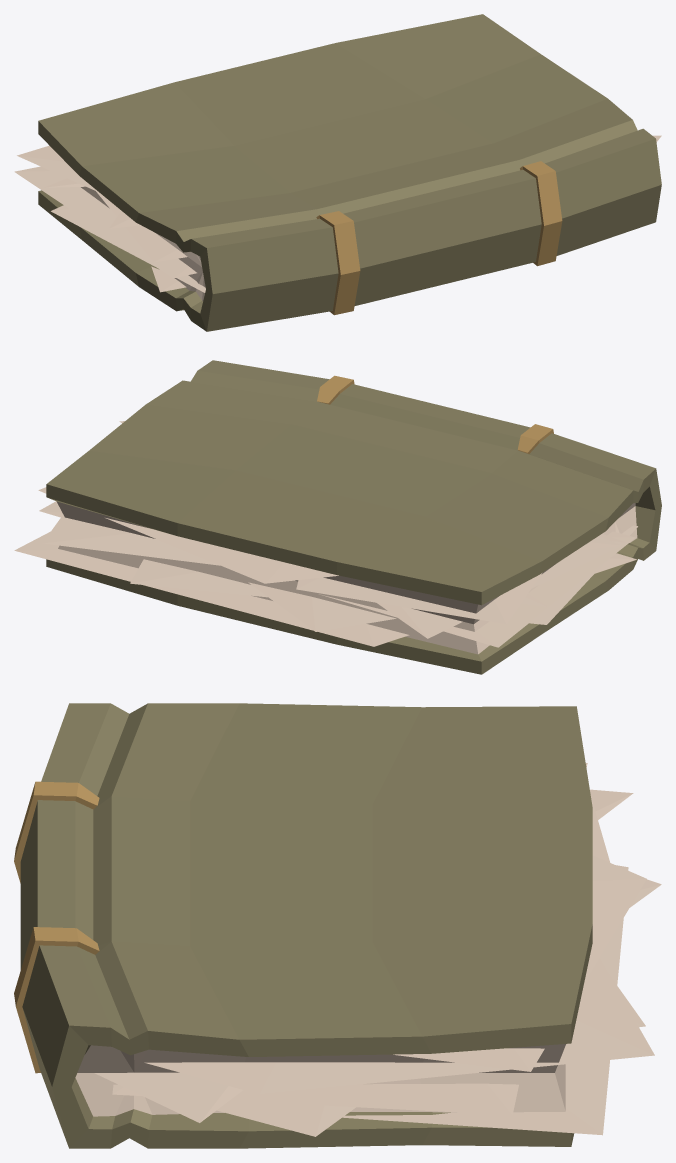
File: Book04_Closed.fbx
The picture shows the model from 3 angles, top to bottom: view 1: azimuth 30°, elevation 25°; view 2: azimuth 150°, elevation 25°; view 3: azimuth 270°, elevation 25°; orthographic projection. The views are drawn at different scales.
Parts seen in each view (by area): view 1: Book04_Closed; view 2: Book04_Closed; view 3: Book04_Closed.
Boxes of the visible parts, x1=… form: Book04_Closed: x1=14, y1=14, x2=661, y2=331; Book04_Closed: x1=14, y1=360, x2=661, y2=674; Book04_Closed: x1=14, y1=703, x2=661, y2=1148.
Bounding box in the file's own units: 1.13 × 0.1831 × 0.8107.
